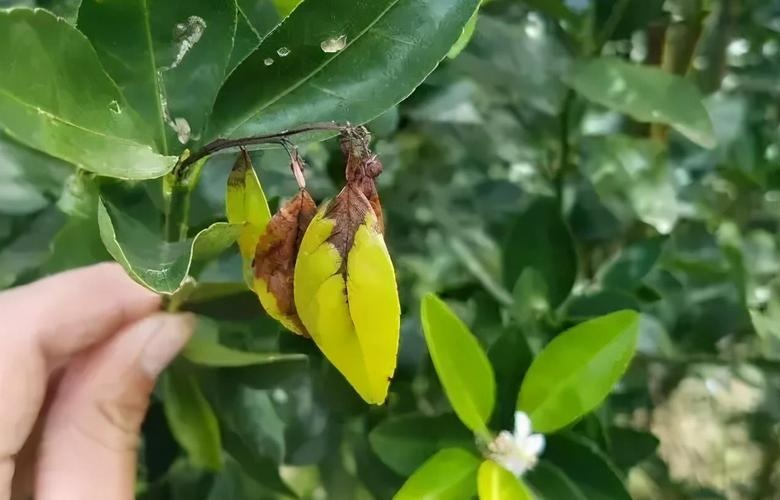Anthracnose: (223, 95, 397, 302)
